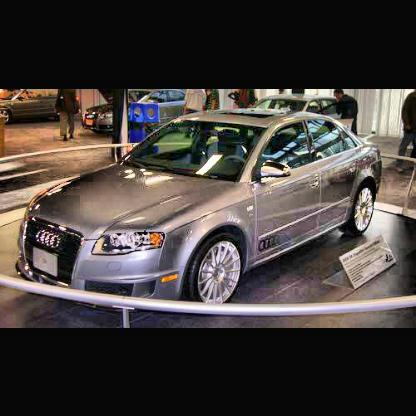Audi S4 Sedan 2007: (15, 111, 384, 304)
